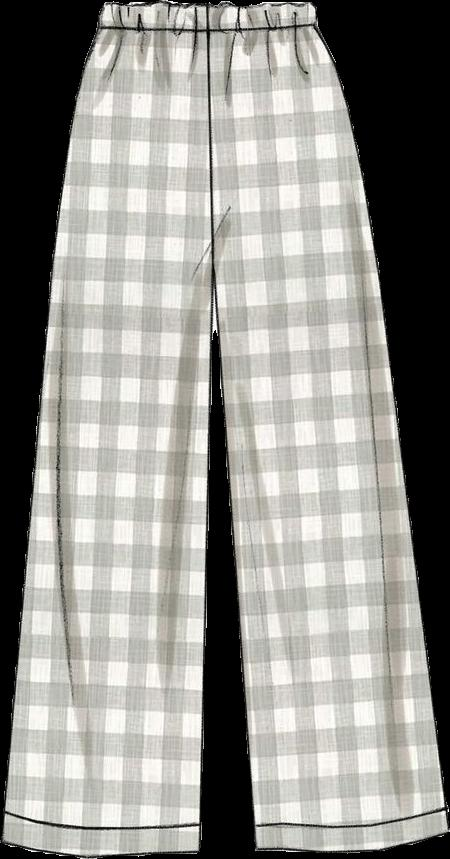Hemline: (256, 827, 449, 858), (0, 837, 203, 858)
Pantleg: (209, 0, 447, 850), (4, 0, 213, 857)
Waistline: (97, 17, 321, 38), (99, 0, 318, 15)
